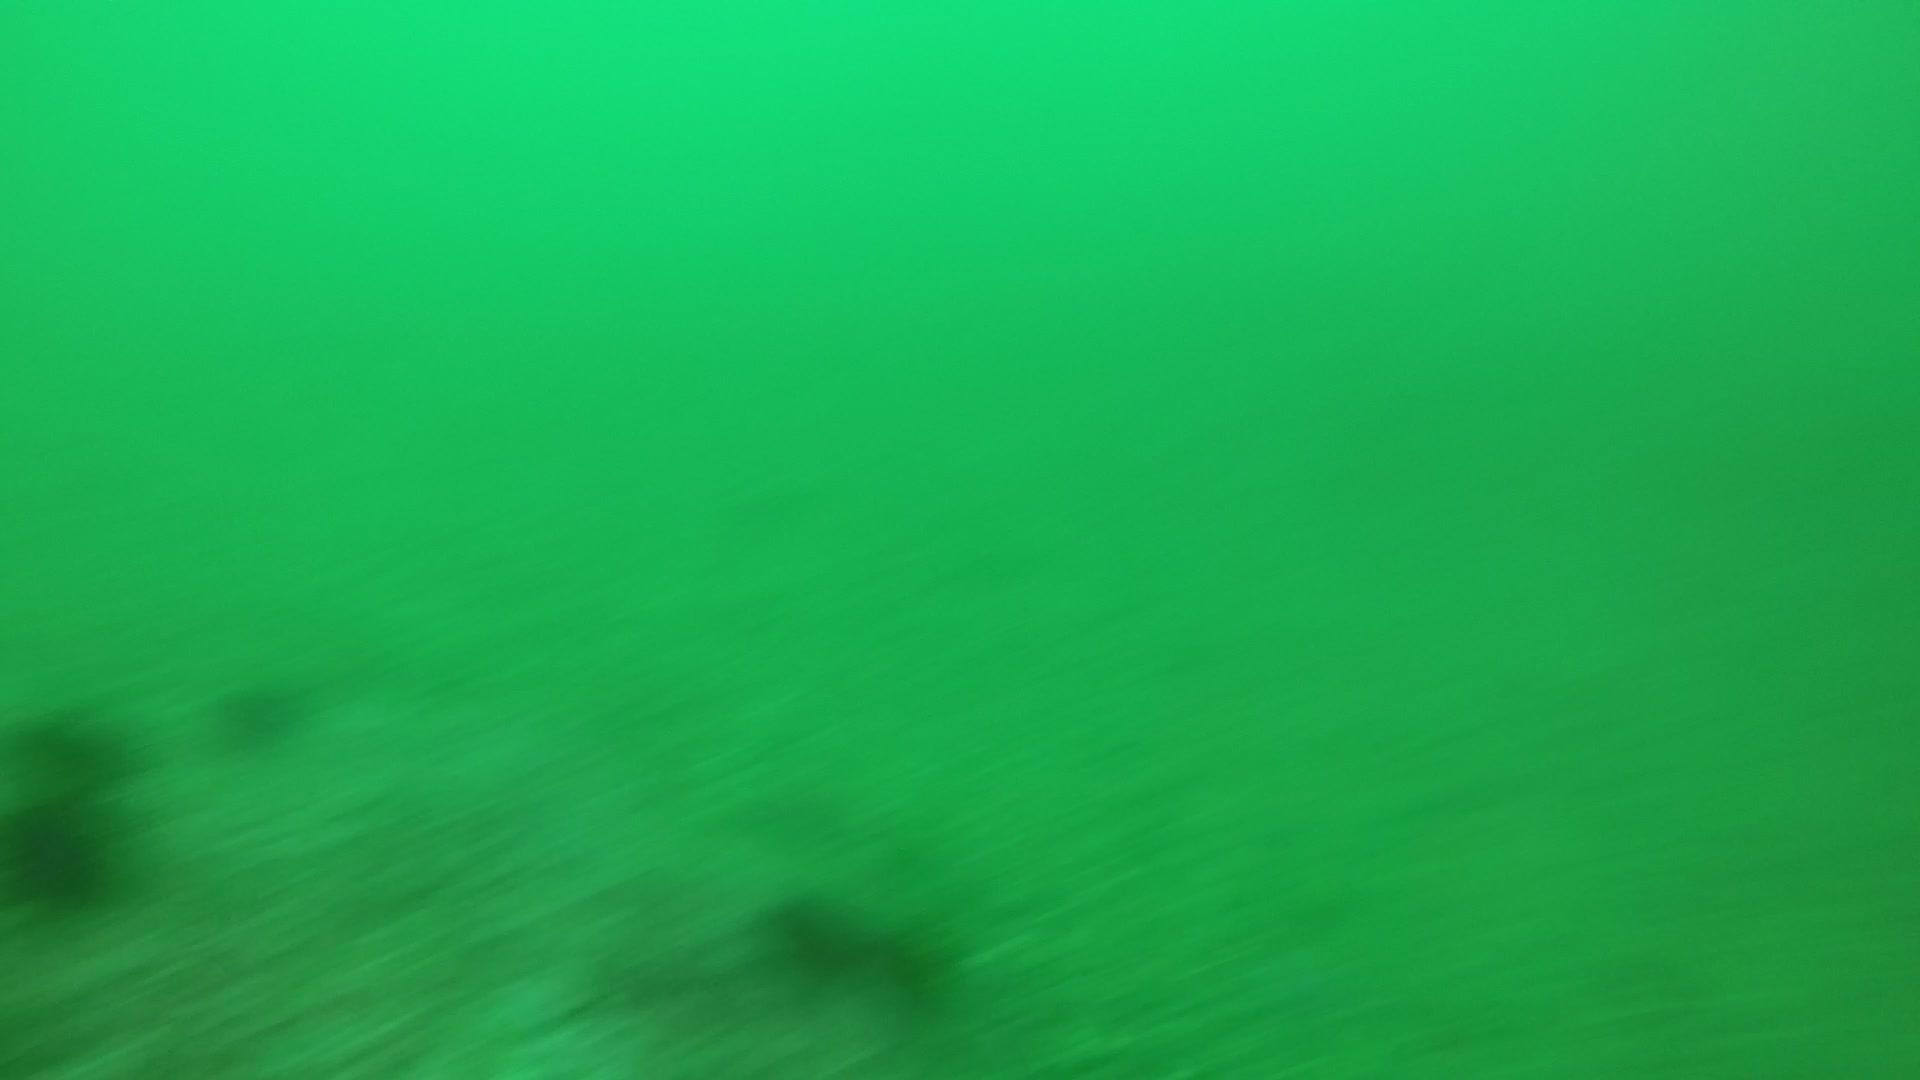echinus: (3, 793, 120, 914), (11, 699, 140, 789), (764, 887, 877, 980), (856, 914, 963, 1010), (212, 667, 311, 752)
